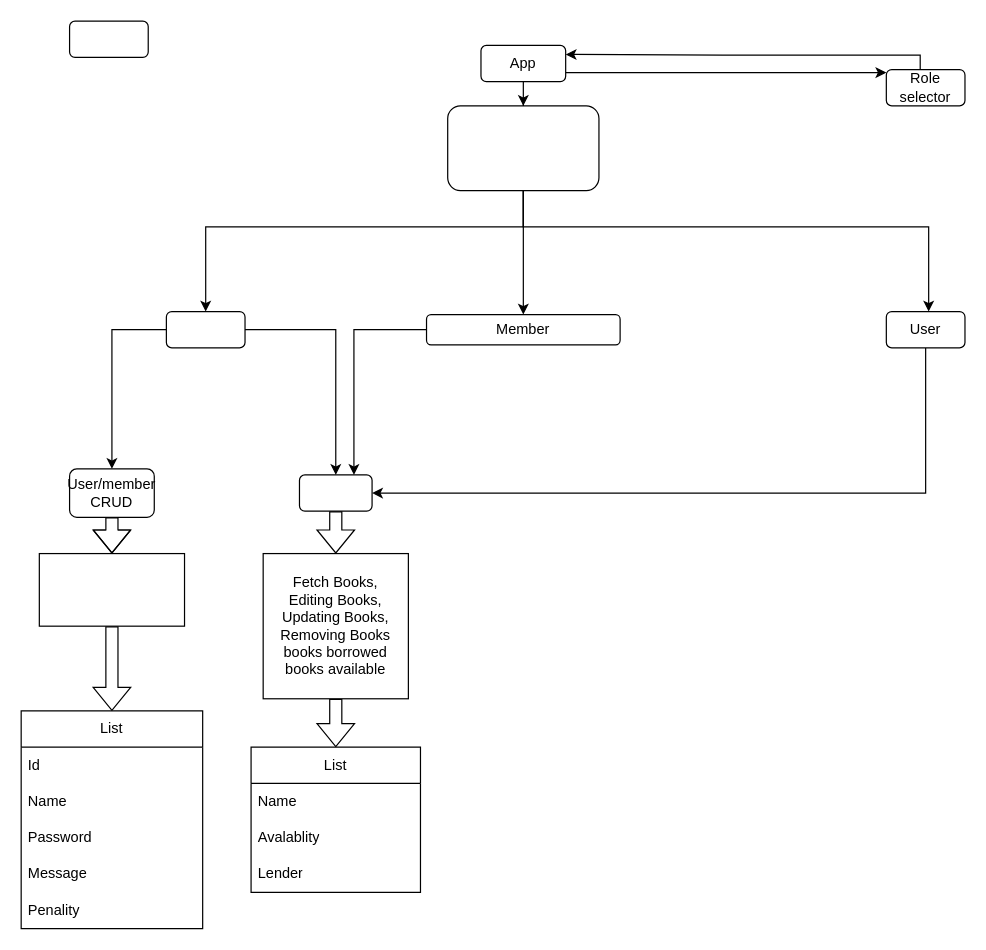
The diagram is 986 pixels wide and 950 high, and some of its shapes have lost their labels. Each missing label, with the box of its shape:
AccessManager show/hide functionality: (446, 105, 599, 191)
Books CRUD: (298, 474, 372, 511)
Librarian: (165, 310, 245, 348)
Member to Librarian Librarian to a member: (38, 552, 185, 626)
